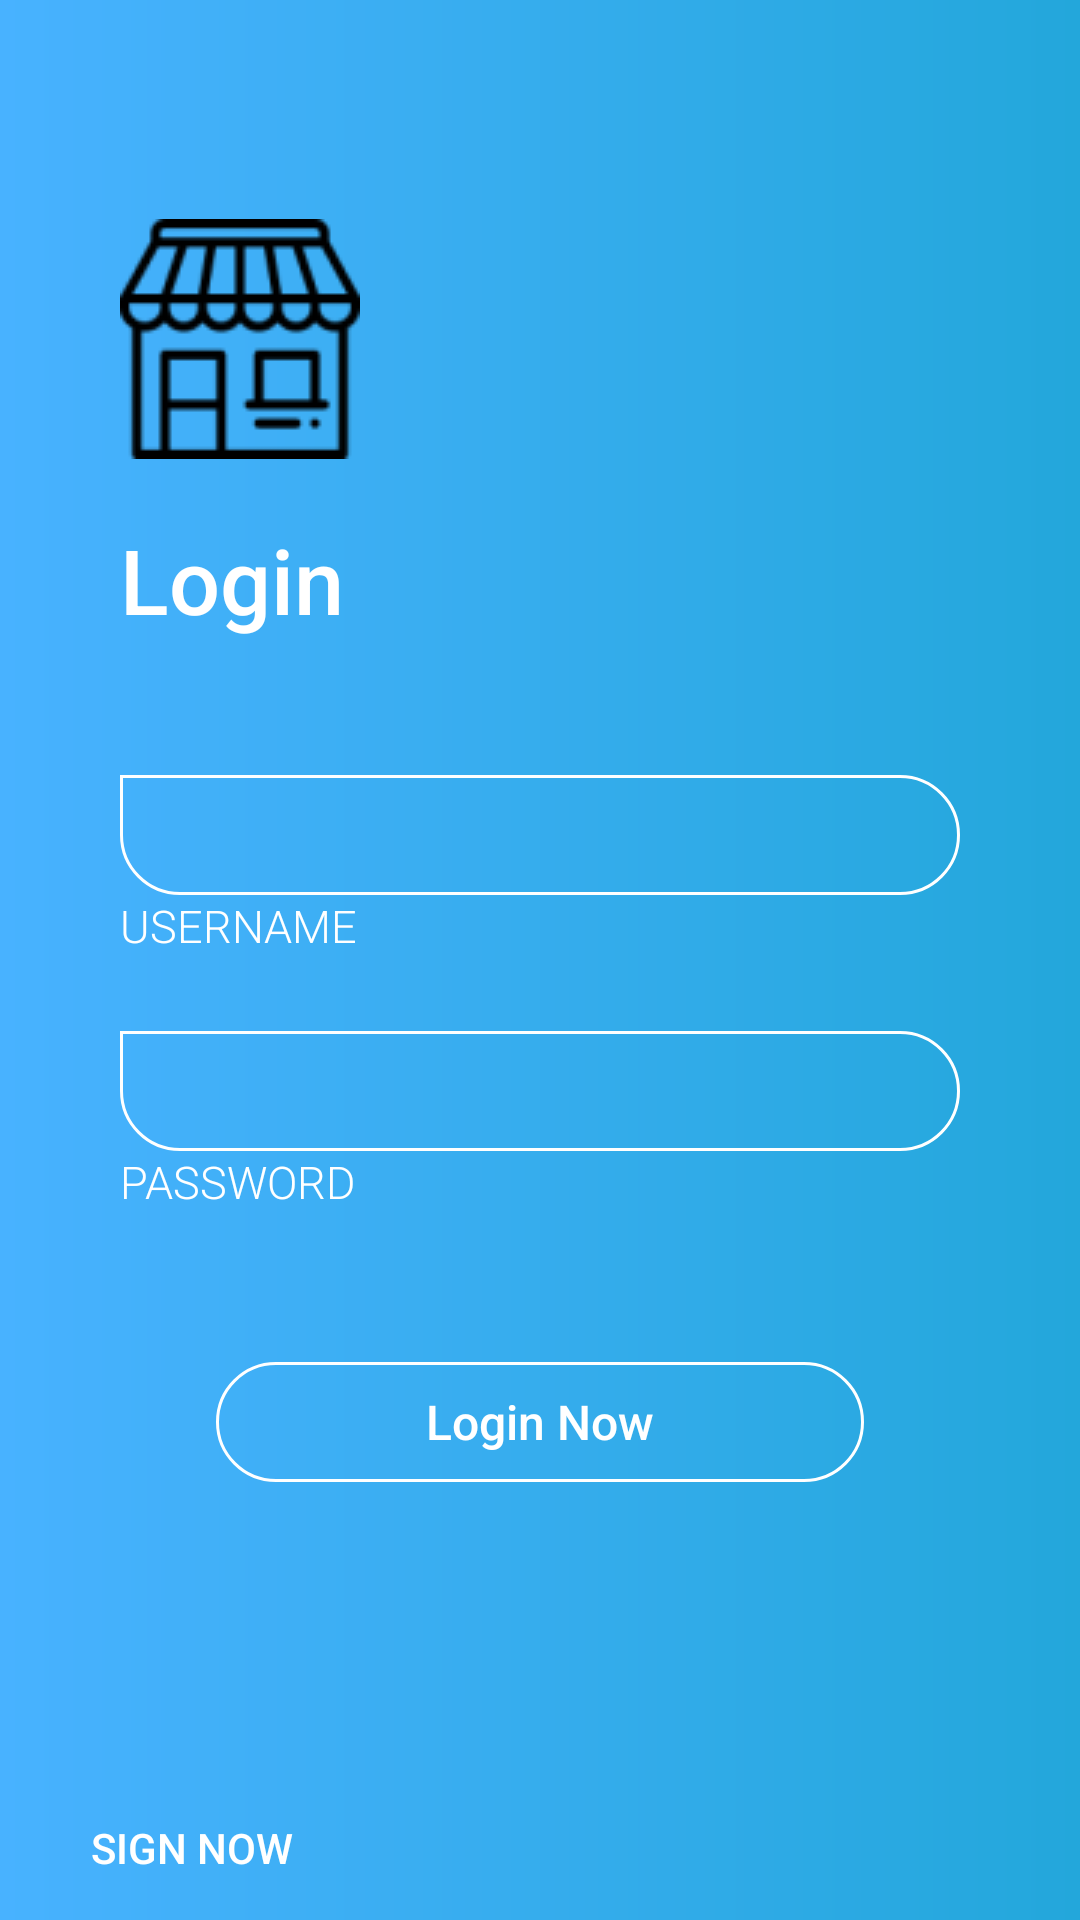

Where icons sit on this 1080*1920 app screen, as (x1, y1, x2, y2):
shoppingstore: (120, 219, 360, 459)
